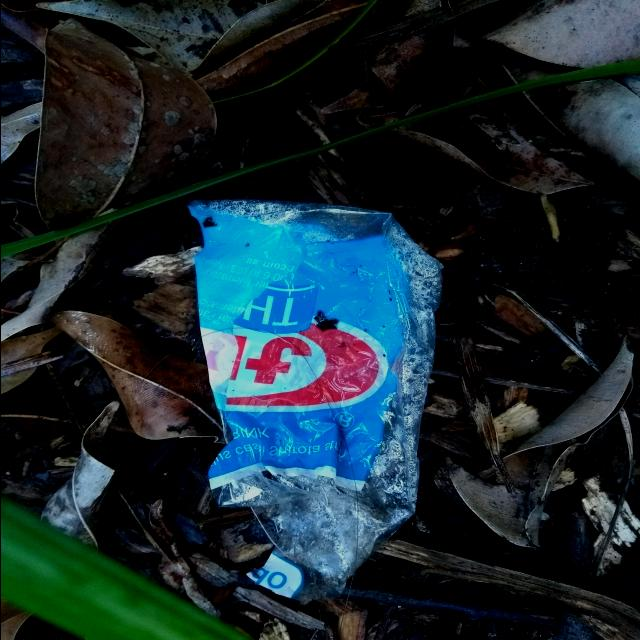Plastic film: (185, 199, 443, 601)
